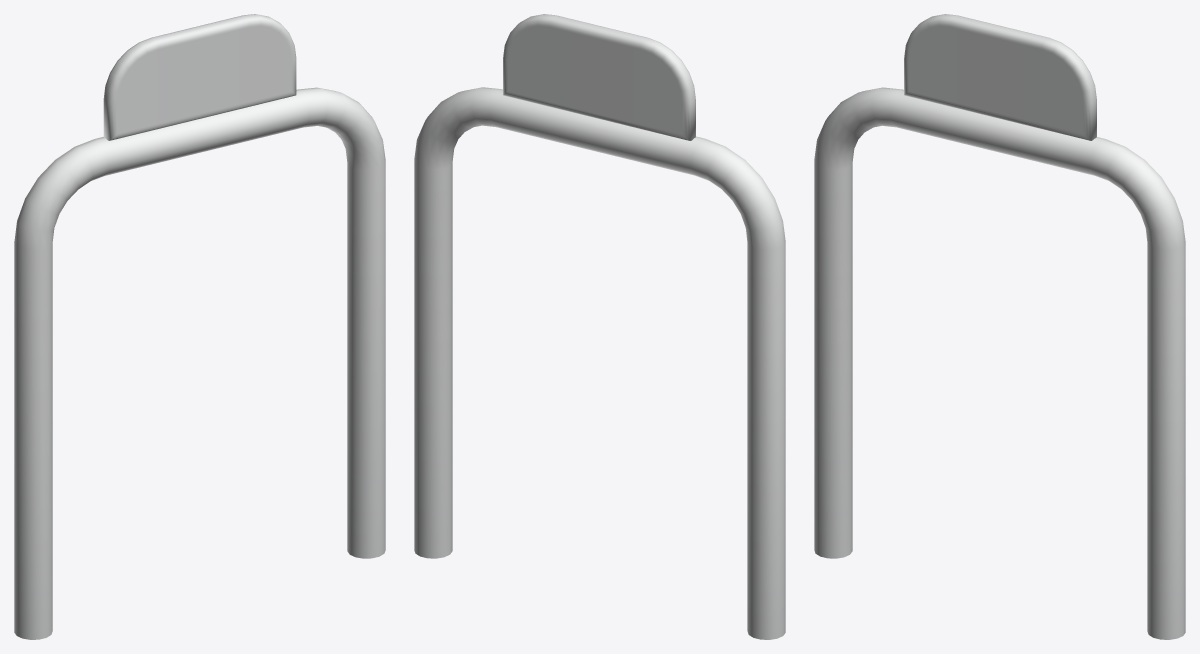
File: door.fbx
3 renders of one model, left to right at view 1: azimuth 30°, elevation 25°; view 2: azimuth 150°, elevation 25°; view 3: azimuth 330°, elevation 25°, orthographic.
Parts seen in each view (by area): view 1: door; view 2: door; view 3: door.
Boxes of the visible parts, bbox=[...] form: door: bbox=[14, 14, 385, 639]; door: bbox=[414, 14, 785, 639]; door: bbox=[814, 14, 1185, 639].
Bounding box in the file's own units: 220 × 323 × 19.5.
1 material, 1 textured.
